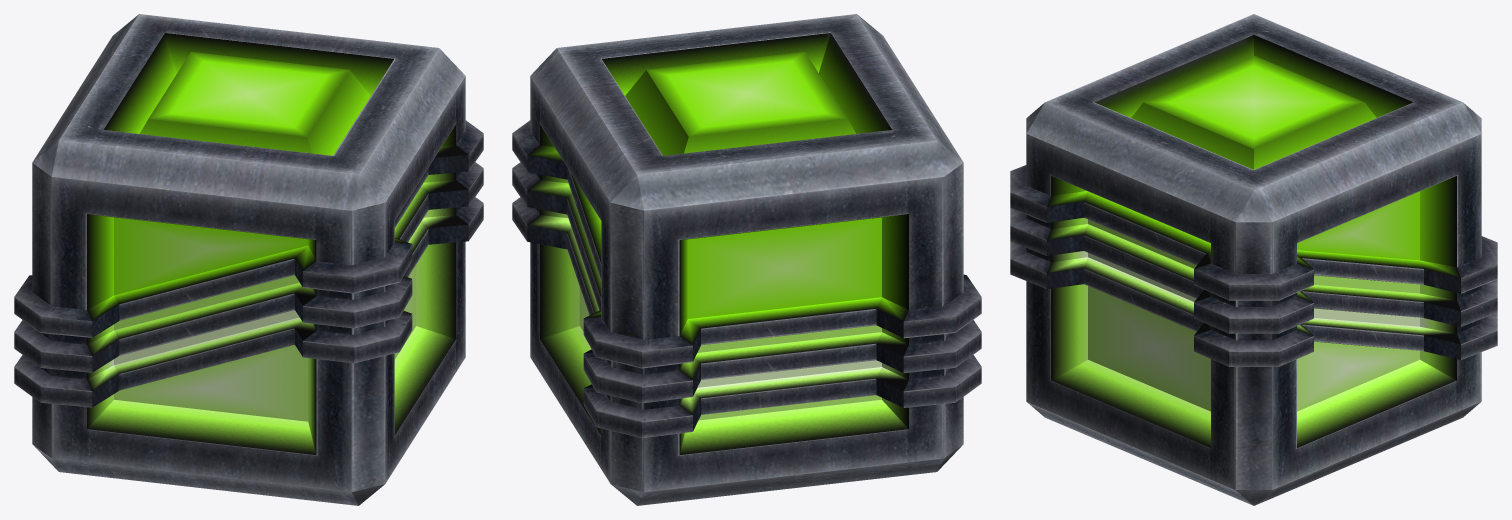
Rendered from SpaceCube02.FBX.
3 views of the same model, side by side, from view 1: azimuth 30°, elevation 25°; view 2: azimuth 150°, elevation 25°; view 3: azimuth 270°, elevation 25° (orthographic). The views are drawn at different scales.
Visible parts, largest first — view 1: SpaceCube02; view 2: SpaceCube02; view 3: SpaceCube02.
Part boxes in pixels (x1,y1,x2,y2): SpaceCube02: (14,14,483,505); SpaceCube02: (512,14,981,505); SpaceCube02: (1010,14,1497,505).
Size of the model in its own units: 28.01 by 20 by 28.01.
